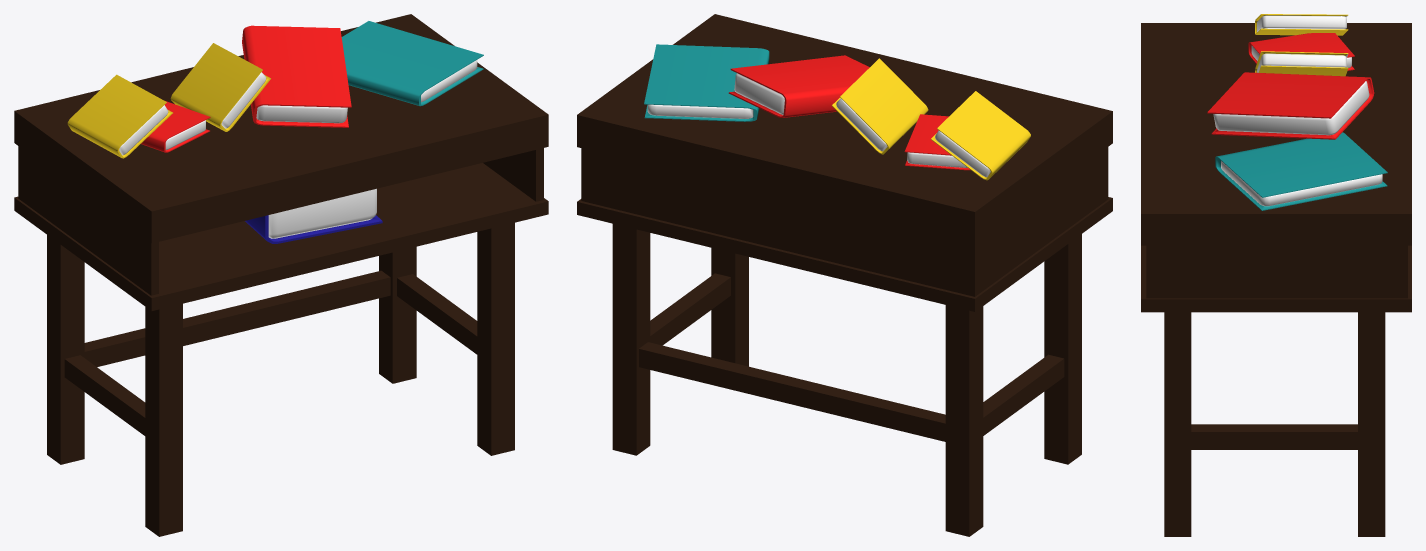
The picture shows the model from 3 angles, left to right: view 1: azimuth 30°, elevation 25°; view 2: azimuth 150°, elevation 25°; view 3: azimuth 270°, elevation 25°; orthographic projection.
Parts seen in each view (by area): view 1: Box001, Box003, ChamferBox003, C-Ext001, Box002, Box006, ChamferBox005, Box004, Box007, ChamferBox006, ChamferBox008, Box005 (+4 smaller); view 2: Box001, C-Ext001, Box004, Box007, Box005, Box003, Box002, ChamferBox005, ChamferBox003, ChamferBox008, ChamferBox006, Box006 (+3 smaller); view 3: Box001, C-Ext001, ChamferBox003, ChamferBox005, Box005, Box006, Box003, Box009, ChamferBox008, ChamferBox006, ChamferBox007.
Boxes of the visible parts, bbox=[...] form: Box001: bbox=[14, 14, 548, 243]; Box003: bbox=[14, 163, 548, 310]; ChamferBox003: bbox=[242, 25, 351, 127]; C-Ext001: bbox=[18, 146, 543, 295]; Box002: bbox=[145, 303, 182, 536]; Box006: bbox=[477, 222, 514, 455]; ChamferBox005: bbox=[341, 21, 483, 106]; Box004: bbox=[47, 235, 84, 464]; Box007: bbox=[84, 270, 390, 366]; ChamferBox006: bbox=[67, 74, 172, 158]; ChamferBox008: bbox=[170, 43, 270, 131]; Box005: bbox=[379, 246, 416, 383]; Box001: bbox=[577, 14, 1112, 243]; C-Ext001: bbox=[581, 147, 1108, 296]; Box004: bbox=[945, 305, 983, 536]; Box007: bbox=[639, 342, 945, 441]; Box005: bbox=[612, 224, 650, 455]; Box003: bbox=[577, 197, 1112, 311]; Box002: bbox=[1044, 234, 1081, 464]; ChamferBox005: bbox=[644, 44, 769, 121]; ChamferBox003: bbox=[728, 55, 869, 117]; ChamferBox008: bbox=[831, 58, 928, 154]; ChamferBox006: bbox=[931, 91, 1030, 180]; Box006: bbox=[711, 247, 748, 366]; Box001: bbox=[1141, 23, 1411, 245]; C-Ext001: bbox=[1146, 245, 1407, 298]; ChamferBox003: bbox=[1207, 72, 1374, 139]; ChamferBox005: bbox=[1215, 132, 1387, 210]; Box005: bbox=[1358, 312, 1385, 536]; Box006: bbox=[1164, 312, 1191, 536]; Box003: bbox=[1141, 245, 1411, 312]; Box009: bbox=[1191, 424, 1357, 449]; ChamferBox008: bbox=[1255, 51, 1348, 76]; ChamferBox006: bbox=[1255, 14, 1348, 35]; ChamferBox007: bbox=[1248, 33, 1354, 70].
Size of the model in its own units: 50 by 47.44 by 30.
5 materials, 4 textured.
